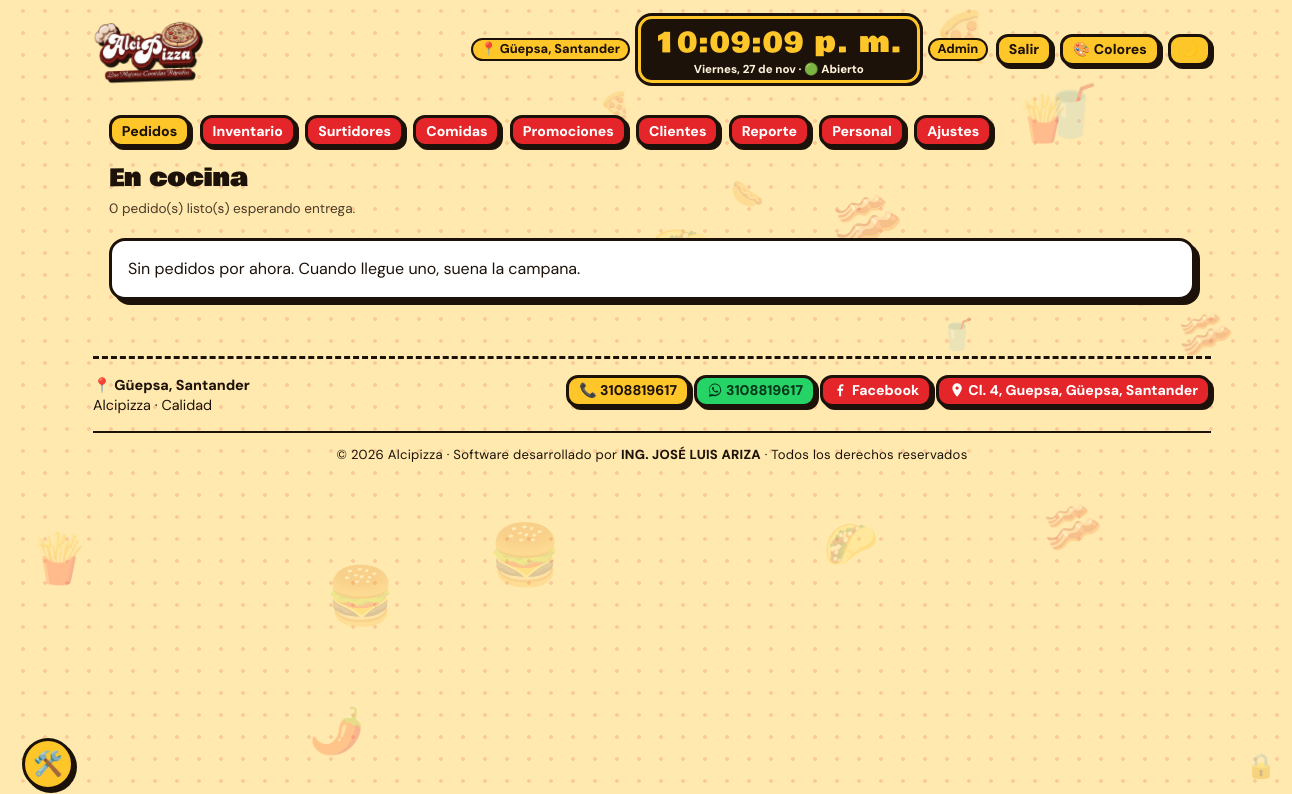
Test: Panel de cocina: marco y pestañas › cambia de pestaña con rutas anidadas
The width and height of the screenshot is (1292, 794).
Click the button "Inventario". click: (248, 131)
box: [200,115,296,147]
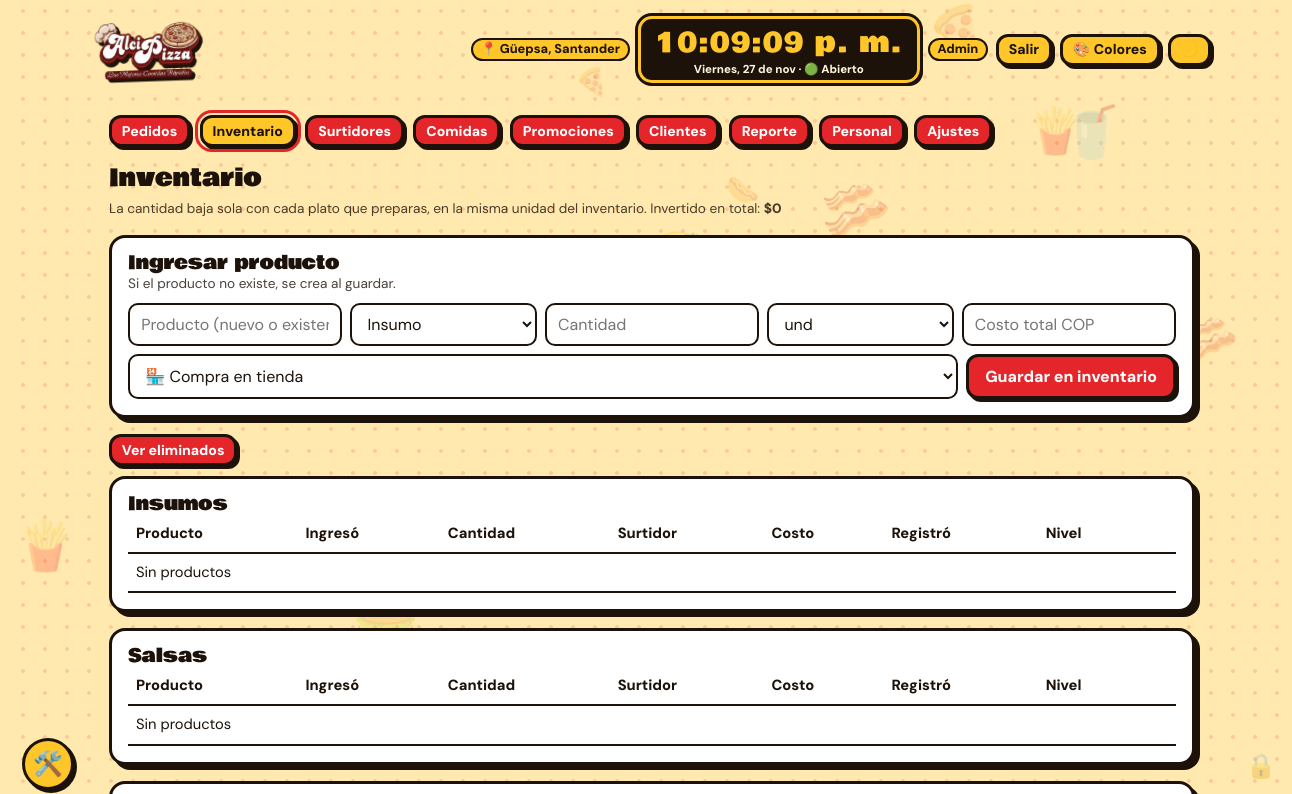
Expected: the heading "Inventario" is shown, [109,159,262,197]
